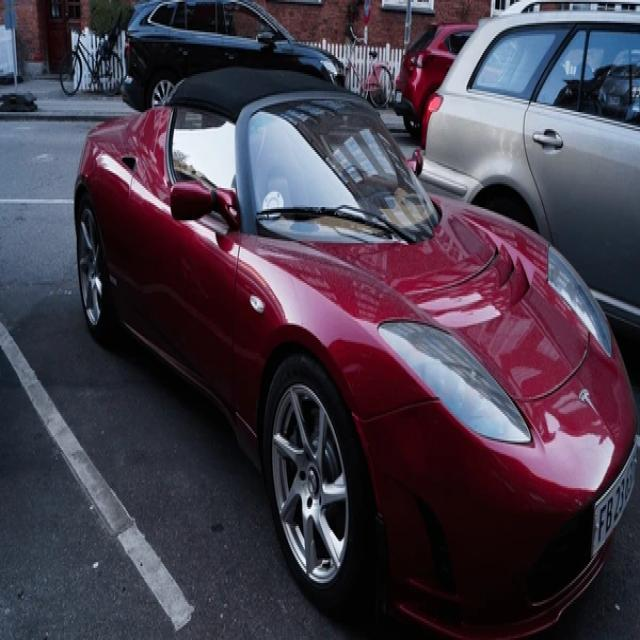tesla: (574, 379, 607, 426)
